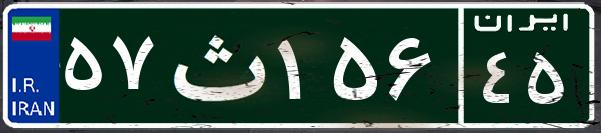1: (273, 28, 330, 110)
4: (475, 38, 525, 113)
5: (330, 28, 385, 110), (57, 26, 110, 107), (525, 38, 570, 115)
6: (385, 28, 445, 110)
7: (110, 28, 158, 105)
ث: (158, 15, 273, 115)
